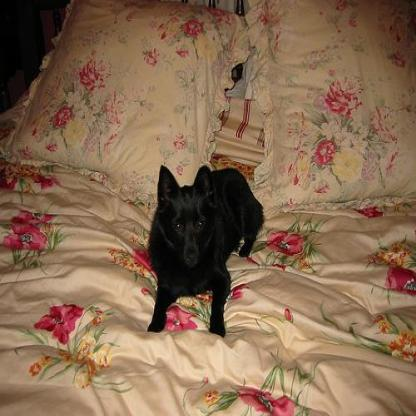schipperke: (148, 162, 260, 331)
